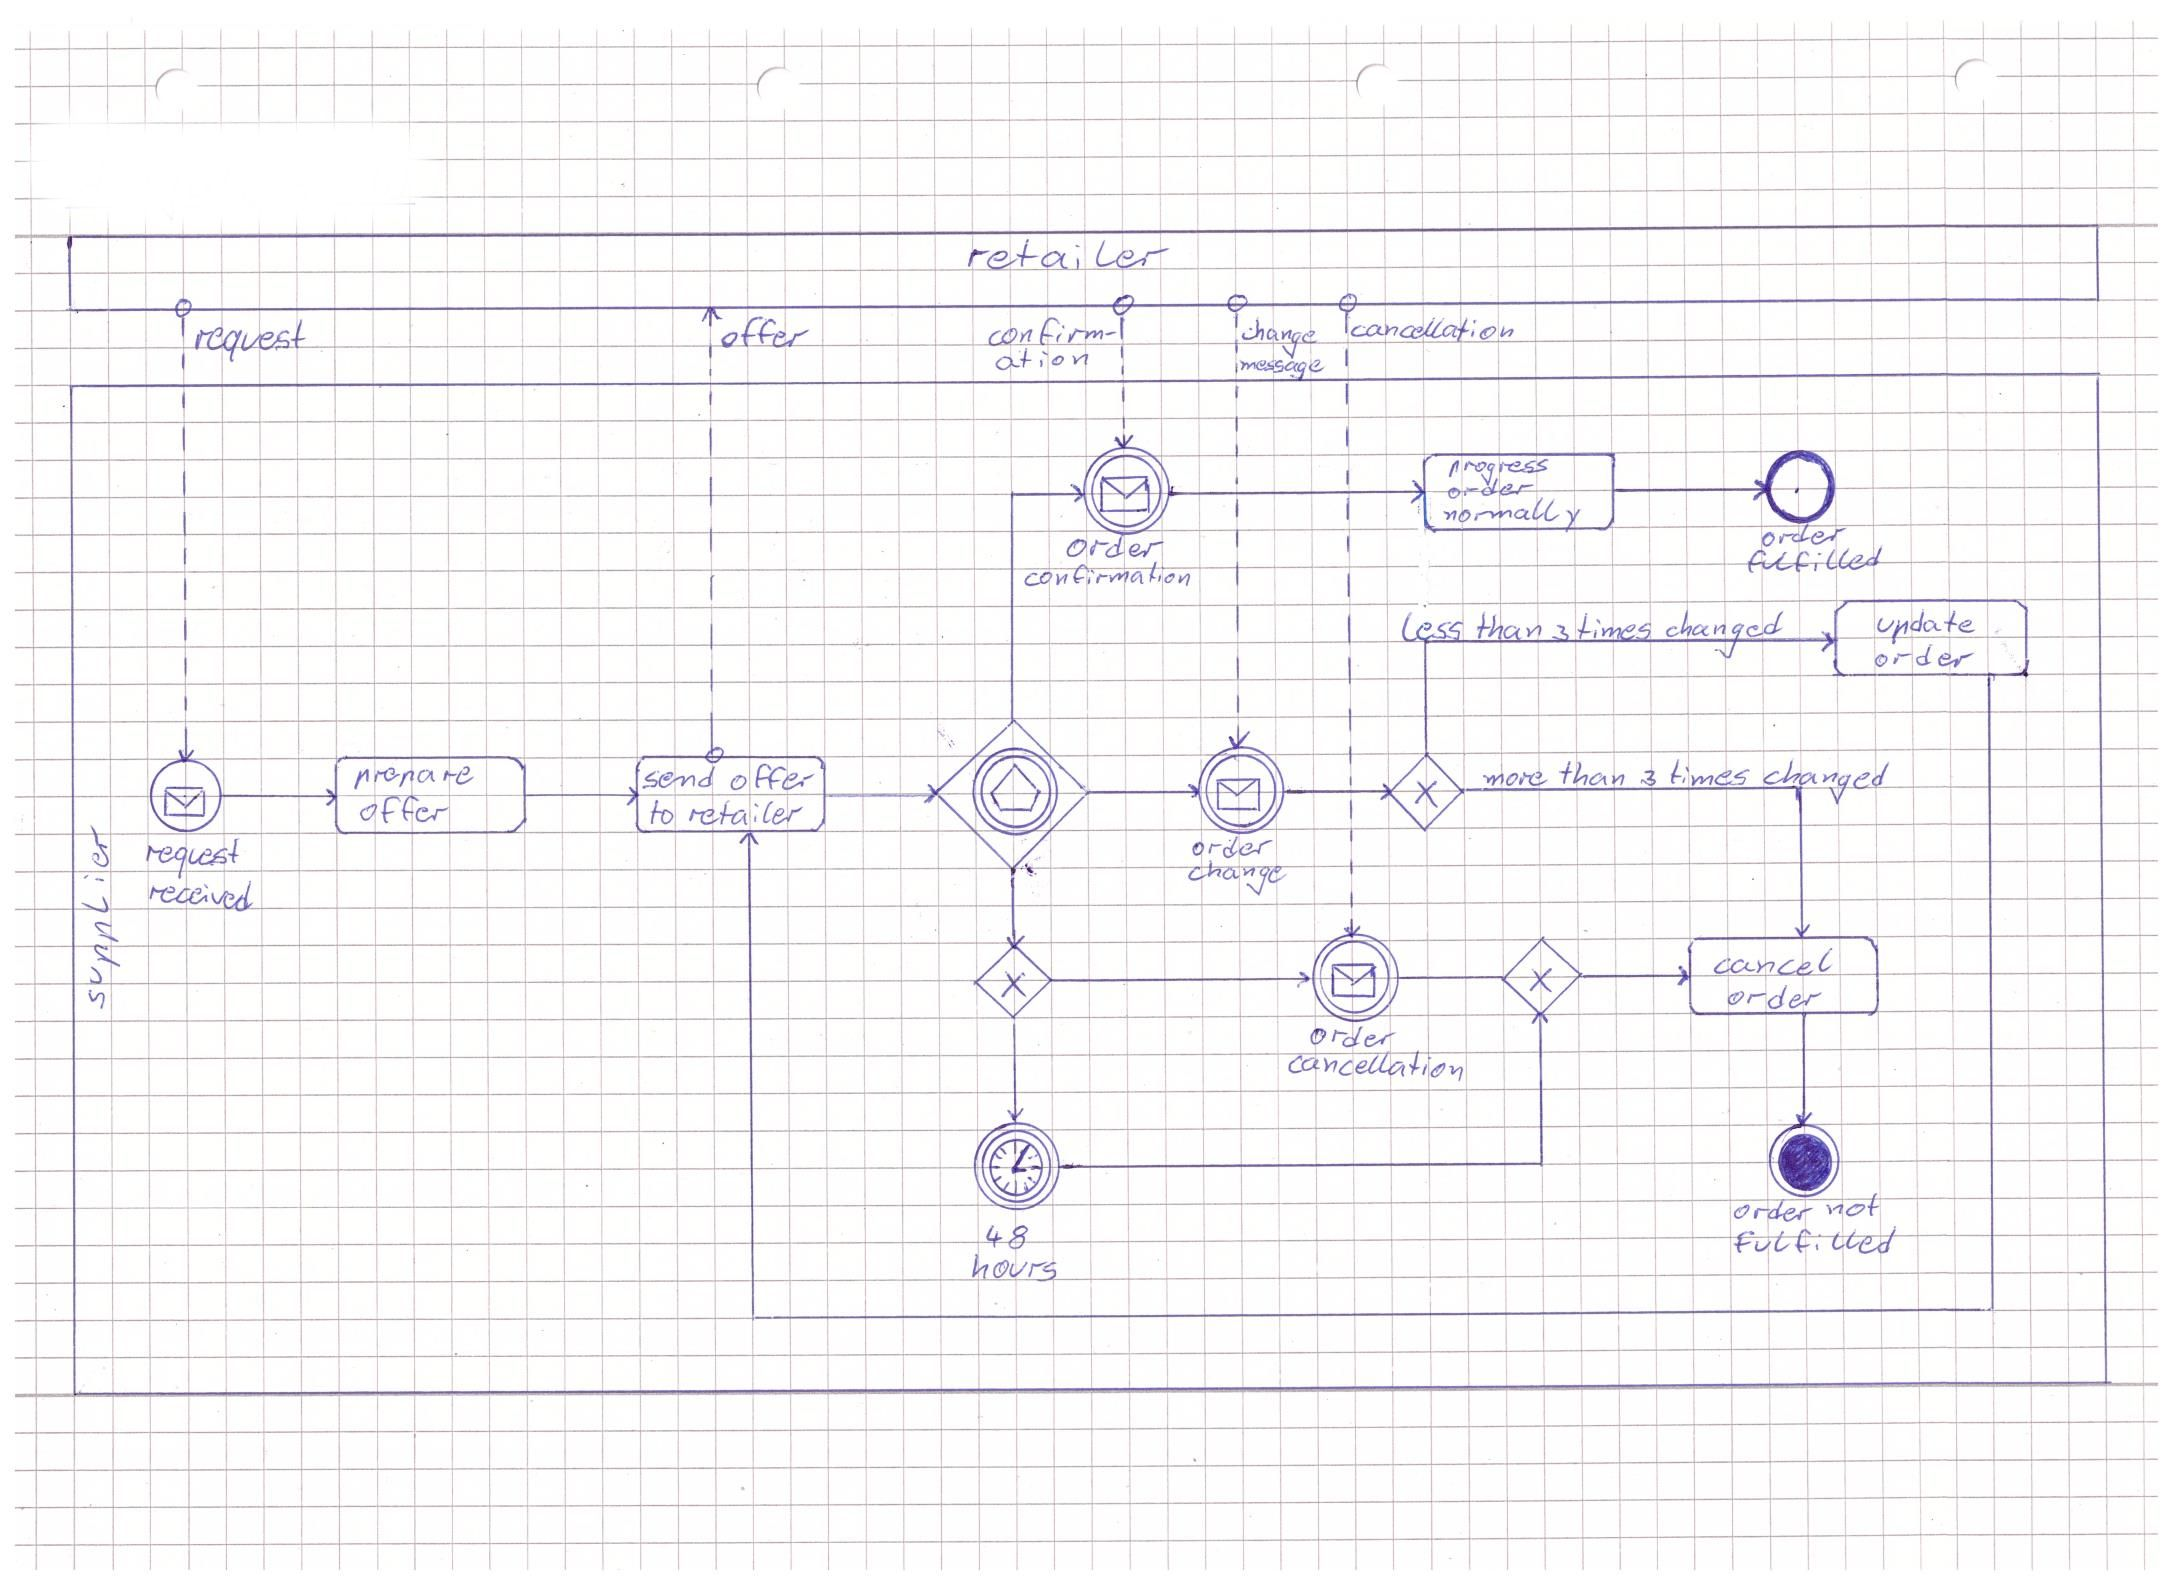48: (981, 1220, 1039, 1252)
ation: (995, 351, 1093, 371)
cancel: (1716, 954, 1829, 986)
cancellation: (1283, 1047, 1466, 1080), (1353, 311, 1518, 346)
change: (1234, 311, 1319, 349), (1192, 863, 1283, 884)
changed: (1663, 609, 1787, 648), (1778, 763, 1881, 797)
confirm-: (983, 322, 1123, 346)
confirmation: (1032, 560, 1184, 596)
fulfilled: (1729, 1229, 1898, 1263), (1741, 542, 1886, 577)
hours: (969, 1249, 1055, 1283)
less: (1393, 613, 1467, 646)
message: (1229, 354, 1326, 375)
more: (1479, 761, 1559, 795)
normally: (1445, 510, 1579, 523)
not: (1820, 1193, 1881, 1222)
offer: (716, 314, 811, 353), (356, 797, 454, 829), (740, 765, 812, 797)
order: (1864, 645, 1984, 677), (1060, 533, 1163, 565), (1749, 525, 1849, 555), (1309, 1021, 1398, 1052), (1439, 478, 1537, 503), (1733, 986, 1824, 1013), (1191, 836, 1272, 864), (1734, 1195, 1812, 1222)
prepare: (366, 763, 463, 793)
progress: (1451, 456, 1543, 481)
received: (149, 883, 248, 912)
request: (191, 311, 319, 361), (145, 842, 235, 869)
retailer: (963, 240, 1170, 277), (686, 795, 799, 830)
send: (637, 763, 730, 798)
supplier: (78, 825, 127, 1011)
than: (1549, 760, 1641, 795), (1466, 613, 1549, 646)
times: (1652, 760, 1771, 797), (1557, 613, 1668, 646)
to: (647, 803, 670, 829)
update: (1874, 611, 1988, 645)
